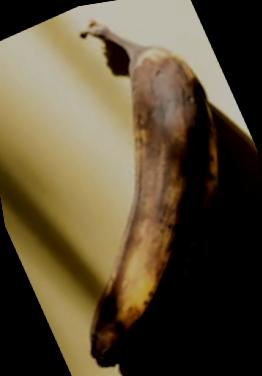Banana Overripe: (47, 2, 258, 376)
